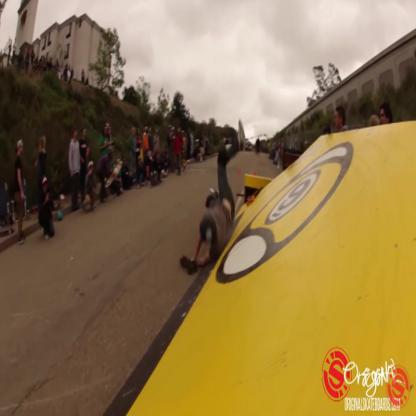Fall_Down: (177, 117, 247, 279)
